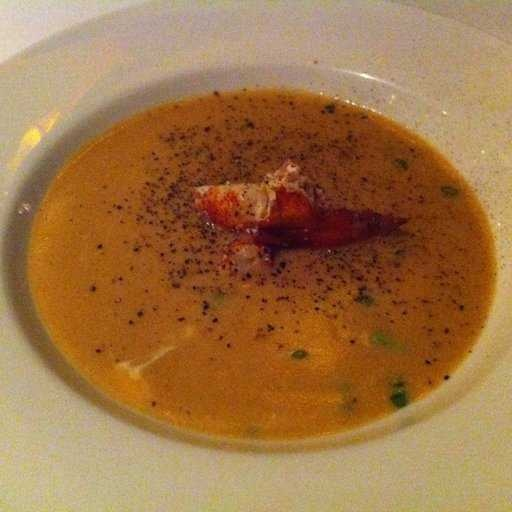soup: (18, 75, 479, 469)
